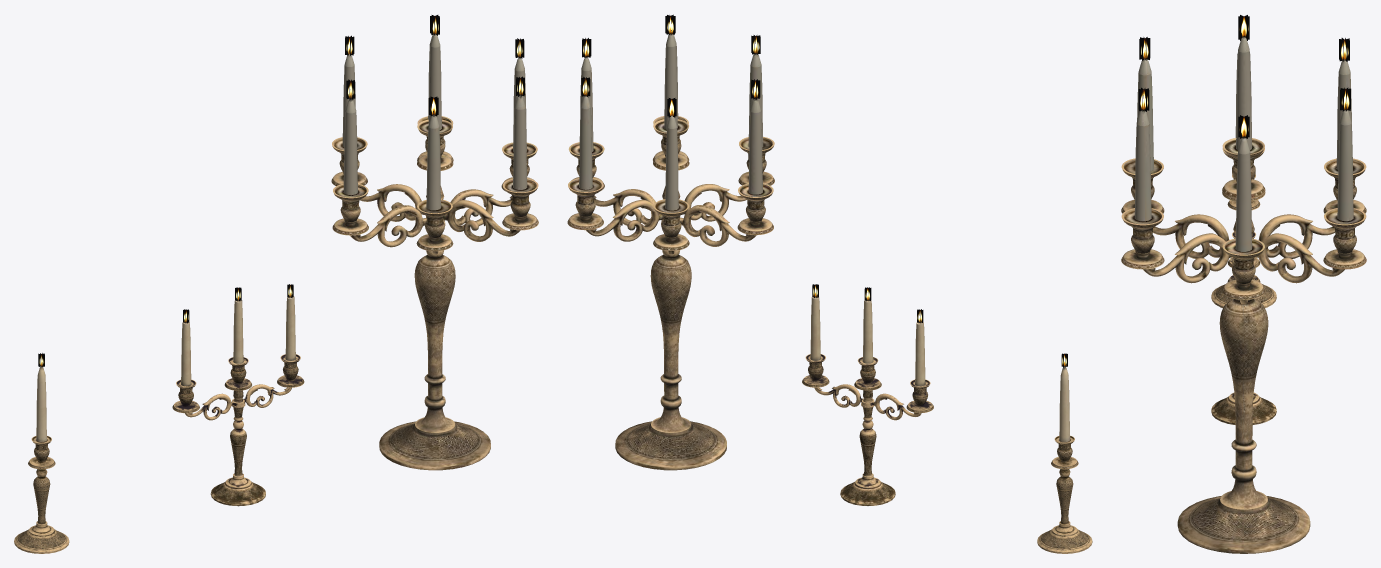
File: brass_candleholders_1k.gltf
3 renders of one model, left to right at view 1: azimuth 30°, elevation 25°; view 2: azimuth 150°, elevation 25°; view 3: azimuth 270°, elevation 25°, orthographic. The views are drawn at different scales.
Parts seen in each view (by area): view 1: brass_candleholder_03, brass_candleholder_02, brass_candleholder_01; view 2: brass_candleholder_03, brass_candleholder_02, brass_candleholder_01; view 3: brass_candleholder_03, brass_candleholder_02, brass_candleholder_01.
Part boxes in pixels (x1=…): brass_candleholder_03: x1=331, y1=15, x2=538, y2=470; brass_candleholder_02: x1=172, y1=284, x2=304, y2=506; brass_candleholder_01: x1=14, y1=353, x2=69, y2=553; brass_candleholder_03: x1=567, y1=14, x2=774, y2=470; brass_candleholder_02: x1=802, y1=284, x2=933, y2=505; brass_candleholder_01: x1=1037, y1=353, x2=1092, y2=553; brass_candleholder_03: x1=1121, y1=15, x2=1366, y2=553; brass_candleholder_02: x1=1211, y1=232, x2=1276, y2=424; brass_candleholder_01: x1=1211, y1=174, x2=1276, y2=307.
Bounding box in the file's own units: 1.05 × 0.8353 × 0.3647.
Materials: 5 (5 with a texture image).
